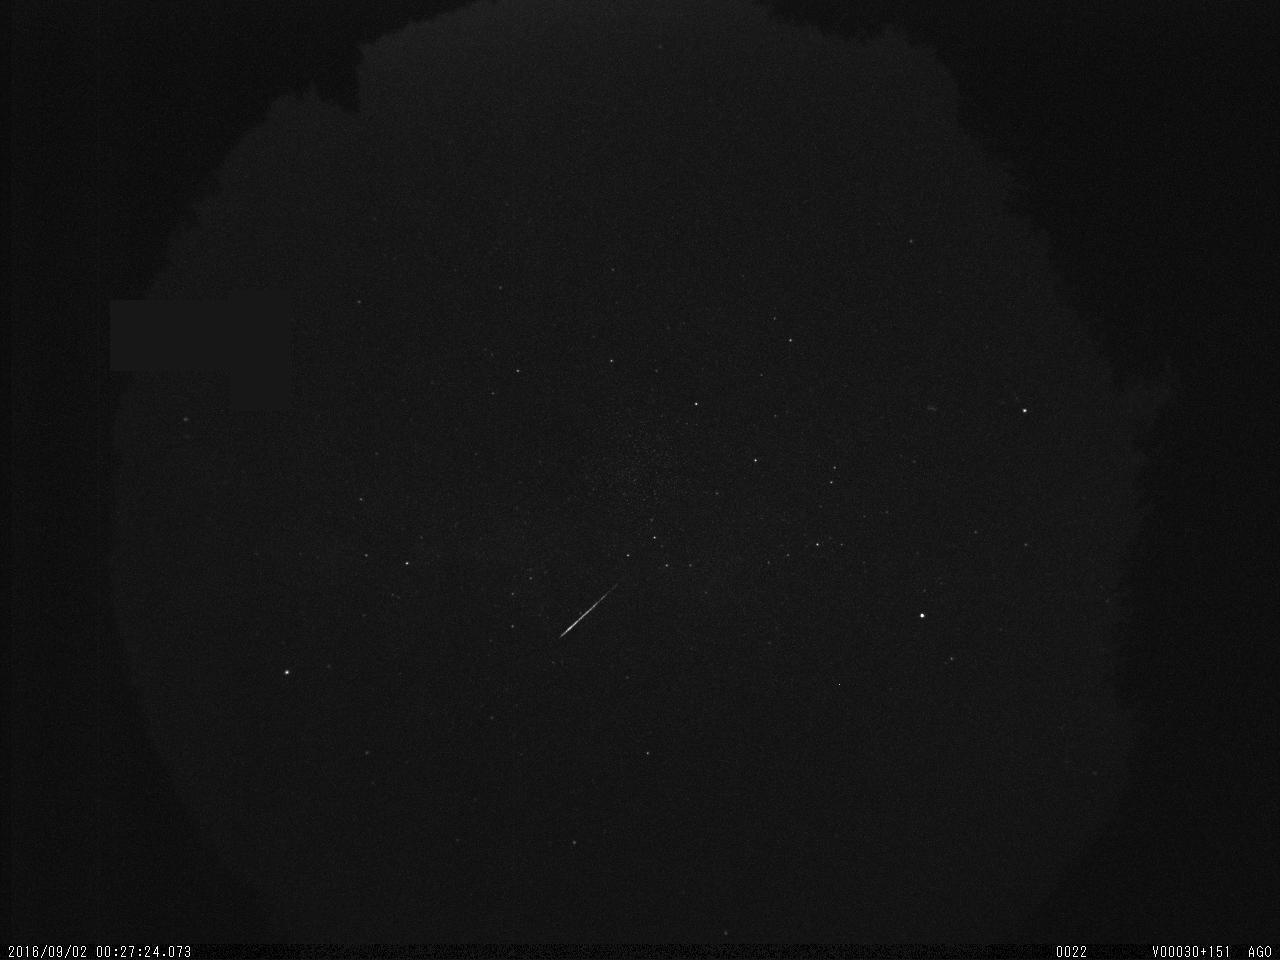meteor: (528, 574, 637, 646)
